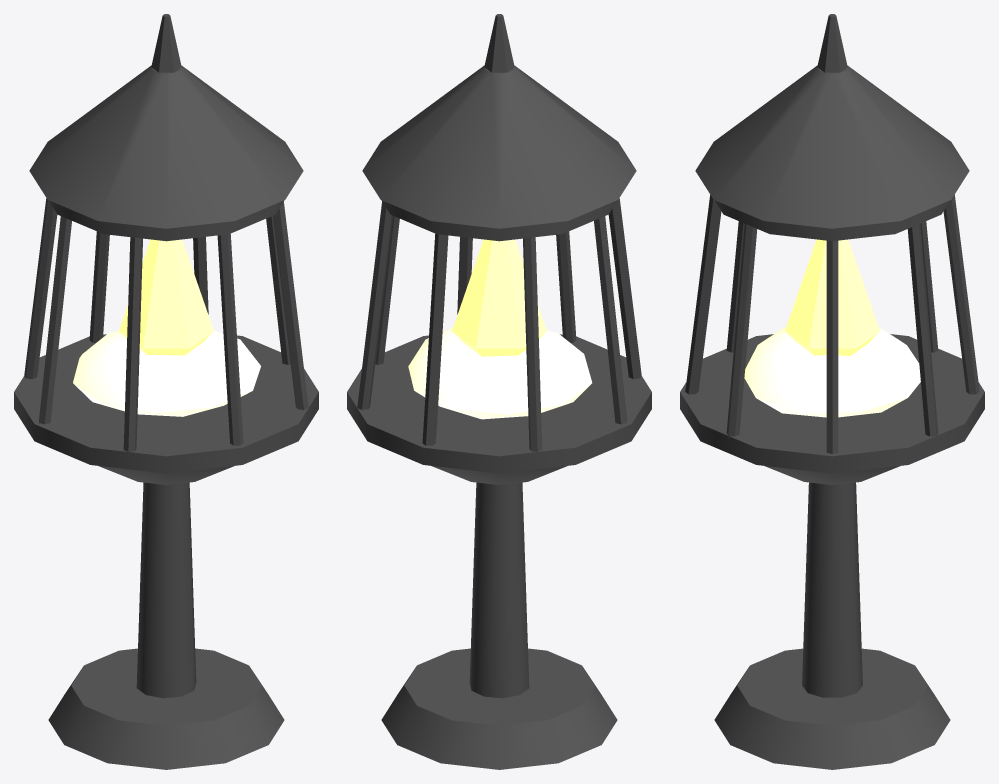
File: great_lamp_lit.glb
The picture shows the model from 3 angles, left to right: view 1: azimuth 30°, elevation 25°; view 2: azimuth 150°, elevation 25°; view 3: azimuth 270°, elevation 25°; orthographic projection.
Parts seen in each view (by area): view 1: iron, glow, flame; view 2: iron, glow, flame; view 3: iron, glow, flame.
Part boxes in pixels (x1=…): iron: x1=14, y1=14, x2=318, y2=769; glow: x1=73, y1=330, x2=260, y2=416; flame: x1=119, y1=239, x2=213, y2=355; iron: x1=347, y1=14, x2=651, y2=769; glow: x1=408, y1=328, x2=592, y2=419; flame: x1=452, y1=239, x2=546, y2=356; iron: x1=680, y1=14, x2=984, y2=769; glow: x1=744, y1=328, x2=920, y2=417; flame: x1=785, y1=239, x2=879, y2=355.
Bounding box in the file's own units: 1.6 × 4.08 × 1.6.
